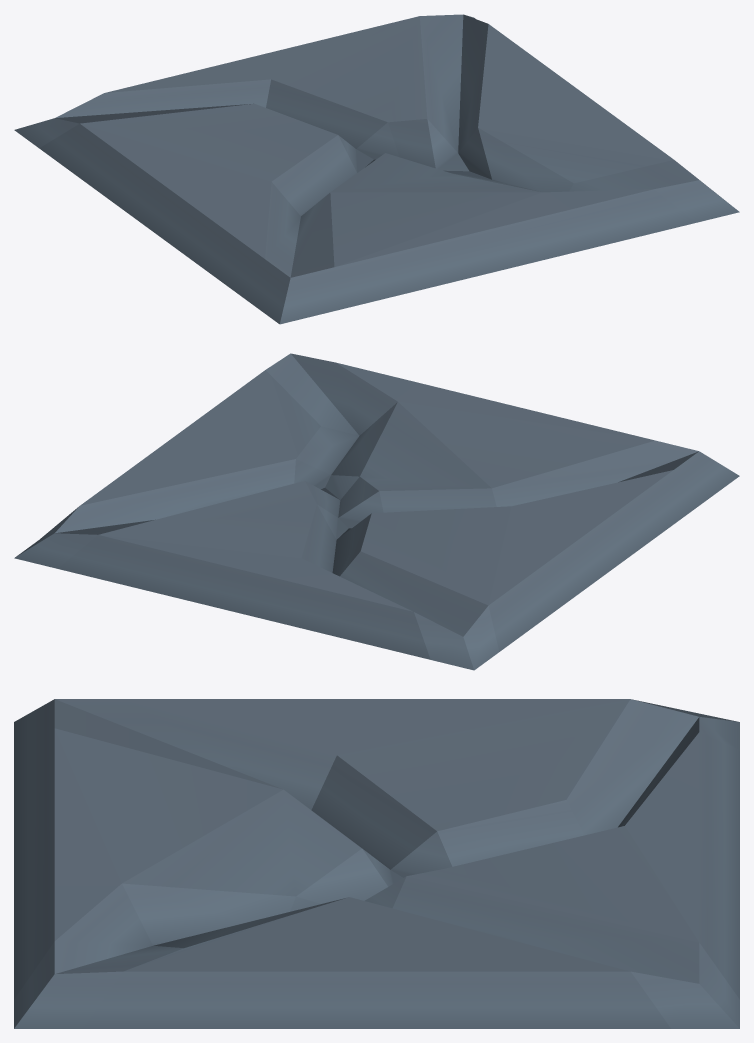
File: Floor_tile_cracked_high_A.fbx
3 views of the same model, one above another, from view 1: azimuth 30°, elevation 25°; view 2: azimuth 150°, elevation 25°; view 3: azimuth 270°, elevation 25° (orthographic). The views are drawn at different scales.
Parts seen in each view (by area): view 1: Floor_tile_cracked_high_A; view 2: Floor_tile_cracked_high_A; view 3: Floor_tile_cracked_high_A.
Boxes of the visible parts, bbox=[...] form: Floor_tile_cracked_high_A: bbox=[14, 14, 739, 324]; Floor_tile_cracked_high_A: bbox=[14, 353, 739, 670]; Floor_tile_cracked_high_A: bbox=[14, 699, 739, 1028].
Bounding box in the file's own units: 100 × 6.84 × 100.
